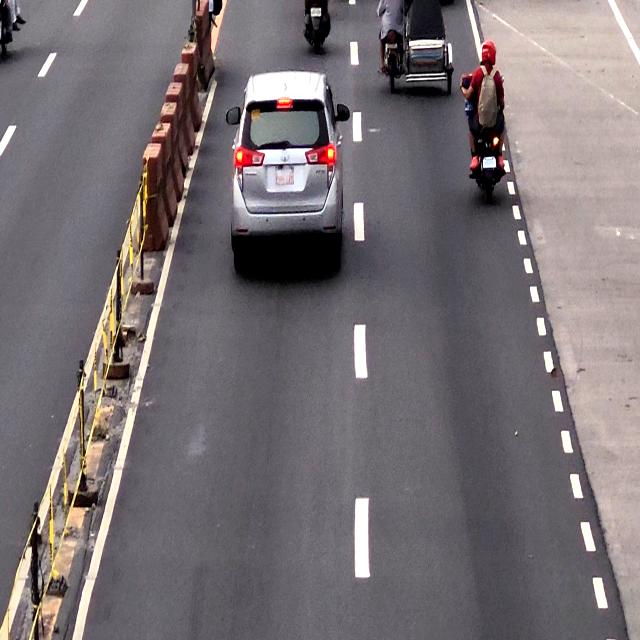License-Plate: (481, 155, 497, 172)
Motorcycle: (473, 45, 502, 211)
Tricycle: (230, 74, 344, 272), (382, 0, 452, 89)
